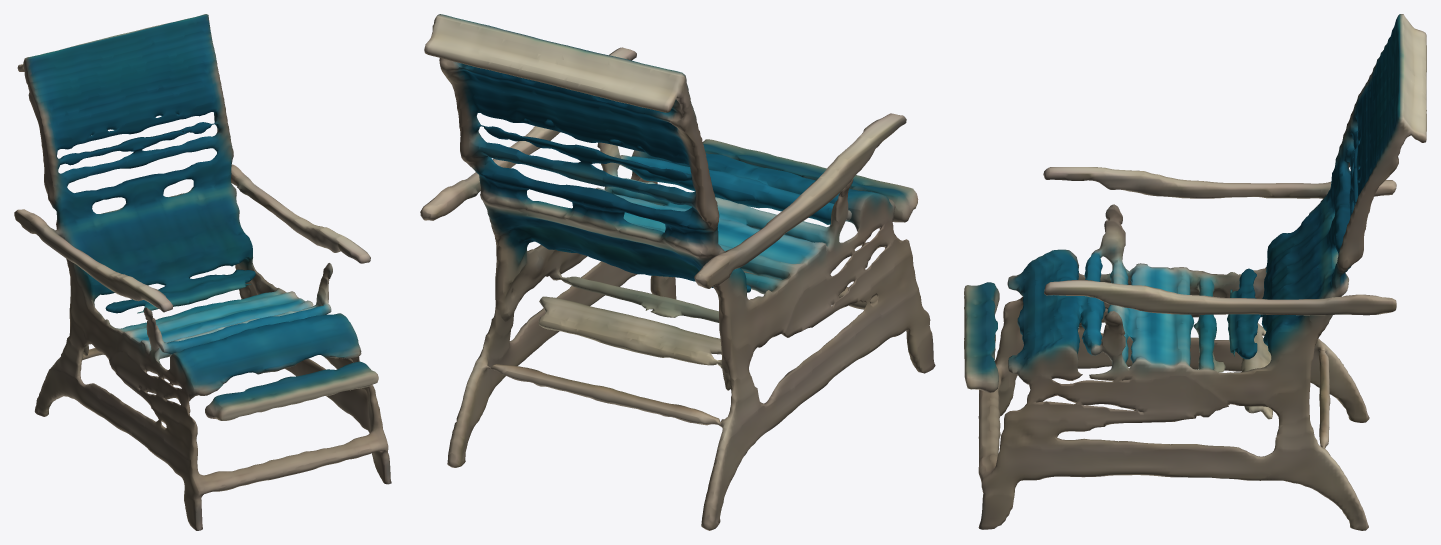
File: A white wooden adirondack beach chair with a grill.glb
The picture shows the model from 3 angles, left to right: view 1: azimuth 30°, elevation 25°; view 2: azimuth 150°, elevation 25°; view 3: azimuth 270°, elevation 25°; orthographic projection. The views are drawn at different scales.
Visible parts, largest first — view 1: A white wooden adirondack beach chair with a grill; view 2: A white wooden adirondack beach chair with a grill; view 3: A white wooden adirondack beach chair with a grill.
Part boxes in pixels (x1,y1,x2,y2): A white wooden adirondack beach chair with a grill: (14,14,391,530); A white wooden adirondack beach chair with a grill: (420,14,935,530); A white wooden adirondack beach chair with a grill: (964,14,1426,530).
Size of the model in its own units: 1.19 by 1.87 by 1.91.
